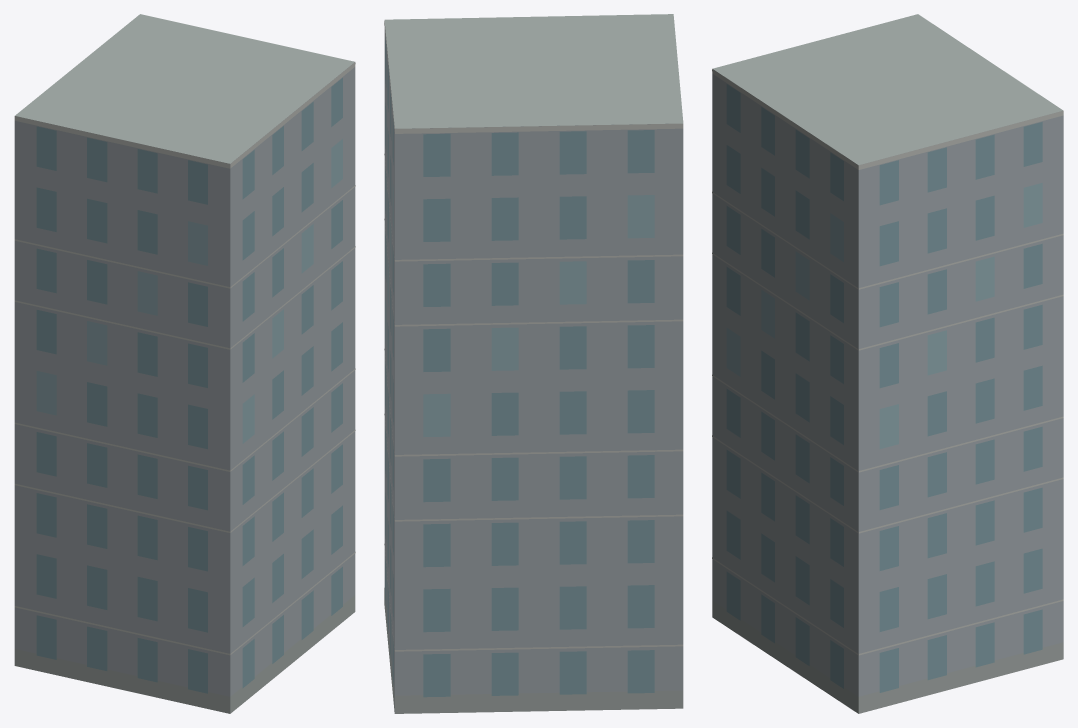
The model's file is survey-upis-32733417.glb.
3 renders of one model, left to right at view 1: azimuth 30°, elevation 25°; view 2: azimuth 150°, elevation 25°; view 3: azimuth 270°, elevation 25°, orthographic. The views are drawn at different scales.
Parts seen in each view (by area): view 1: survey-upis-32733417.tmp; view 2: survey-upis-32733417.tmp; view 3: survey-upis-32733417.tmp.
Part boxes in pixels (bbox=[...]): survey-upis-32733417.tmp: bbox=[14, 14, 355, 713]; survey-upis-32733417.tmp: bbox=[384, 14, 683, 713]; survey-upis-32733417.tmp: bbox=[712, 14, 1063, 713].
Size of the model in its own units: 16.25 by 27.45 by 15.95.
